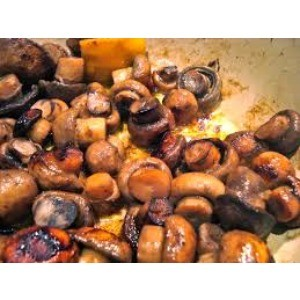mushroom_brain food: (35, 98, 235, 222)
